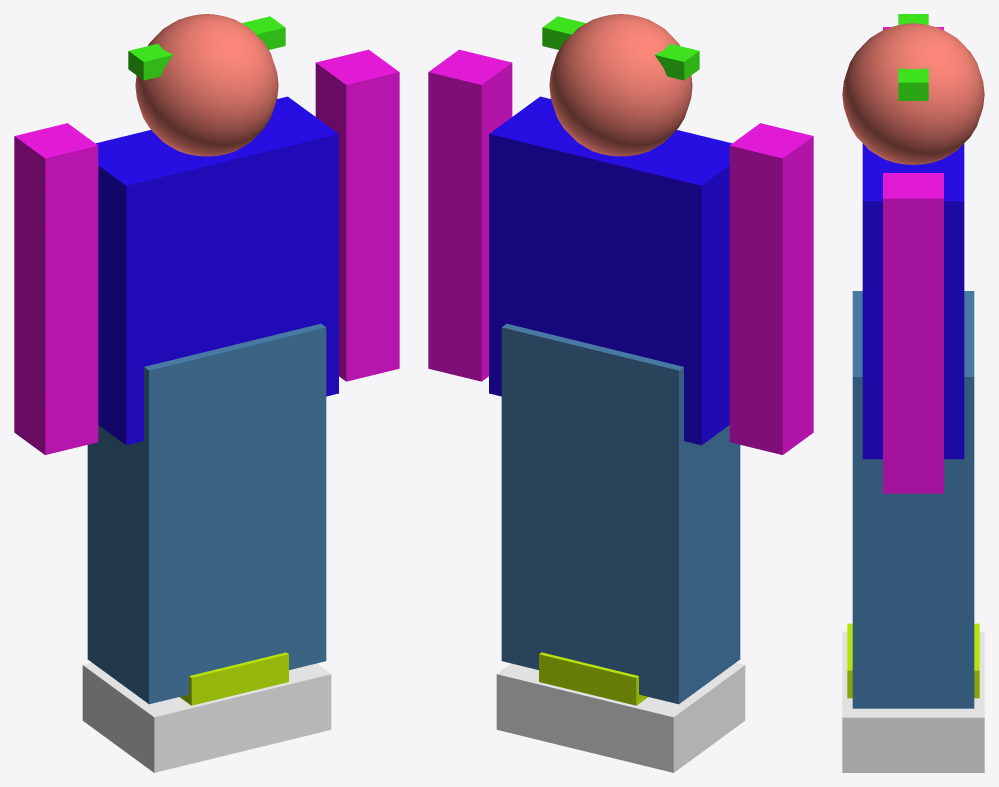
Rendered from pedestrians.glb.
3 renders of one model, left to right at view 1: azimuth 30°, elevation 25°; view 2: azimuth 150°, elevation 25°; view 3: azimuth 270°, elevation 25°, orthographic.
Bounding box in the file's own units: 2 × 3.8 × 0.7.
